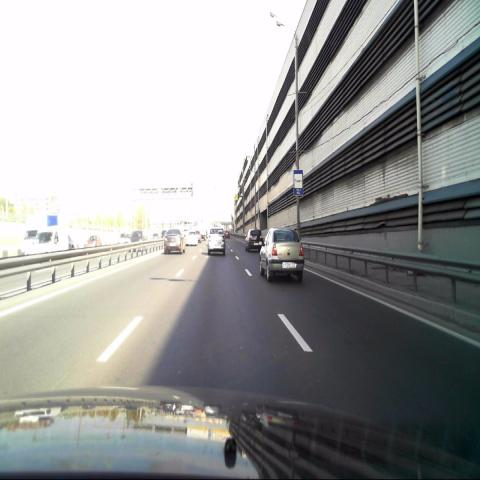7_15: (294, 169, 303, 196)
